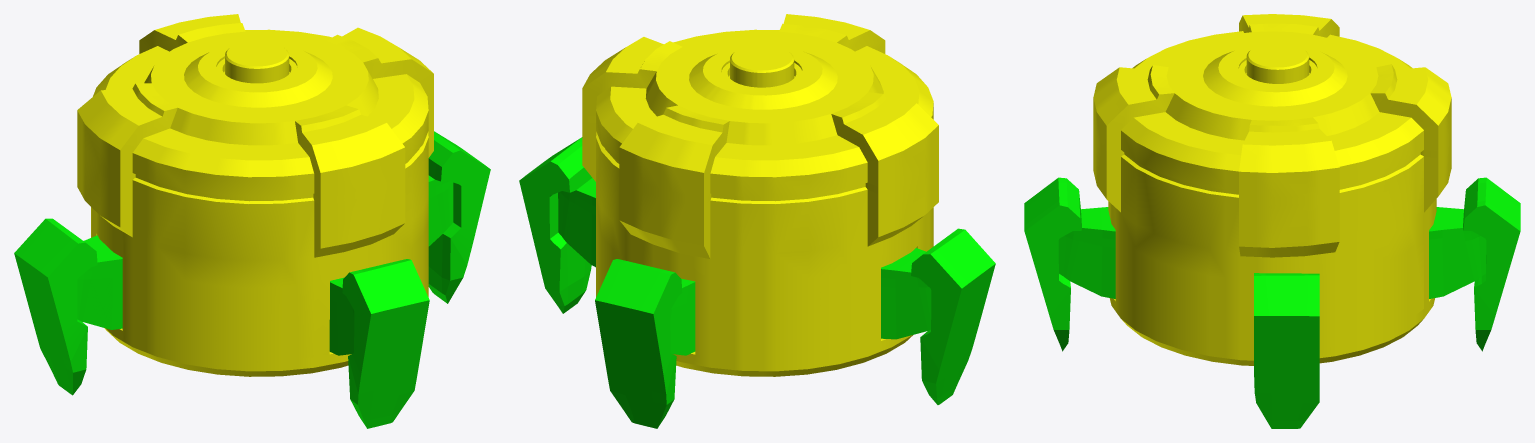
File: Sci-fi Mine.FBX
3 views of the same model, side by side, from view 1: azimuth 30°, elevation 25°; view 2: azimuth 150°, elevation 25°; view 3: azimuth 270°, elevation 25° (orthographic). The views are drawn at different scales.
Parts seen in each view (by area): view 1: Sci_fi_Mine_base, Sci_fi_Mine_leg; view 2: Sci_fi_Mine_base, Sci_fi_Mine_leg; view 3: Sci_fi_Mine_base, Sci_fi_Mine_leg.
Boxes of the visible parts, x1=… form: Sci_fi_Mine_base: x1=77, y1=14, x2=433, y2=376; Sci_fi_Mine_leg: x1=14, y1=131, x2=490, y2=428; Sci_fi_Mine_base: x1=582, y1=14, x2=938, y2=376; Sci_fi_Mine_leg: x1=519, y1=137, x2=995, y2=428; Sci_fi_Mine_base: x1=1093, y1=14, x2=1451, y2=365; Sci_fi_Mine_leg: x1=1024, y1=177, x2=1520, y2=428.
Bounding box in the file's own units: 3.02 × 1.92 × 3.02.
